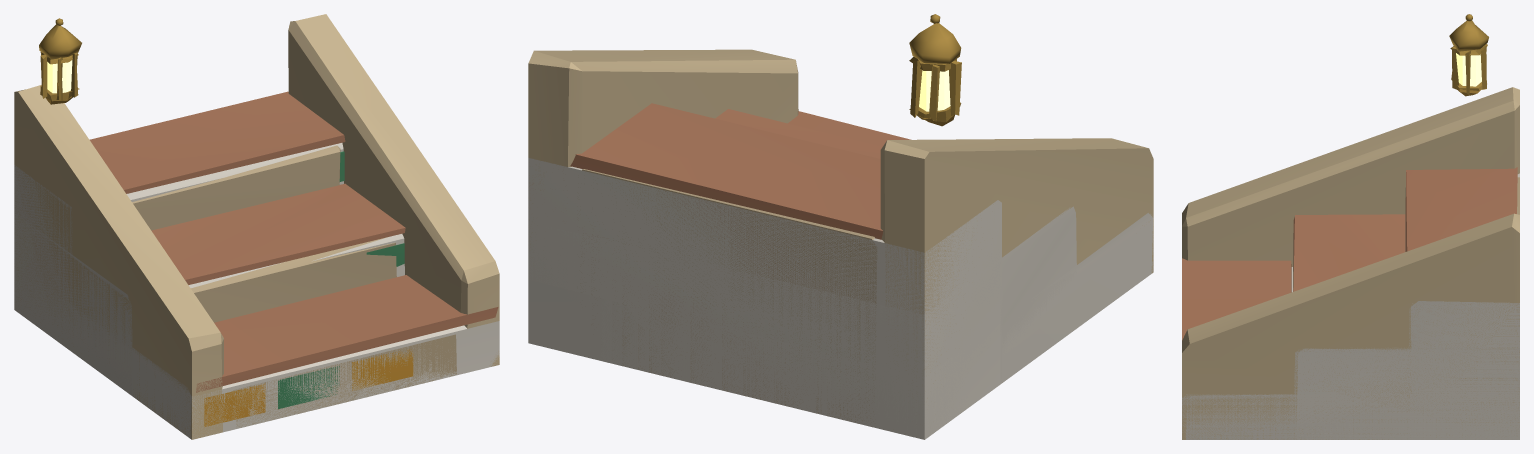
The model's file is stair.glb.
3 renders of one model, left to right at view 1: azimuth 30°, elevation 25°; view 2: azimuth 150°, elevation 25°; view 3: azimuth 270°, elevation 25°, orthographic. The views are drawn at different scales.
Visible parts, largest first — view 1: stair.v1.mesh, stair.v2.mesh, stair.v0.mesh; view 2: stair.v0.mesh, stair.v2.mesh, stair.v1.mesh; view 3: stair.v1.mesh, stair.v0.mesh, stair.v2.mesh.
Boxes of the visible parts, box(x1,y1,x2,y2) form: stair.v1.mesh: box(14, 14, 499, 439); stair.v2.mesh: box(14, 91, 499, 439); stair.v0.mesh: box(14, 151, 413, 437); stair.v0.mesh: box(528, 158, 1153, 439); stair.v2.mesh: box(528, 103, 1153, 438); stair.v1.mesh: box(528, 14, 1153, 423); stair.v1.mesh: box(1182, 14, 1519, 439); stair.v0.mesh: box(1186, 173, 1519, 439); stair.v2.mesh: box(1182, 167, 1519, 437).
Size of the model in its own units: 1 by 0.9525 by 1.
